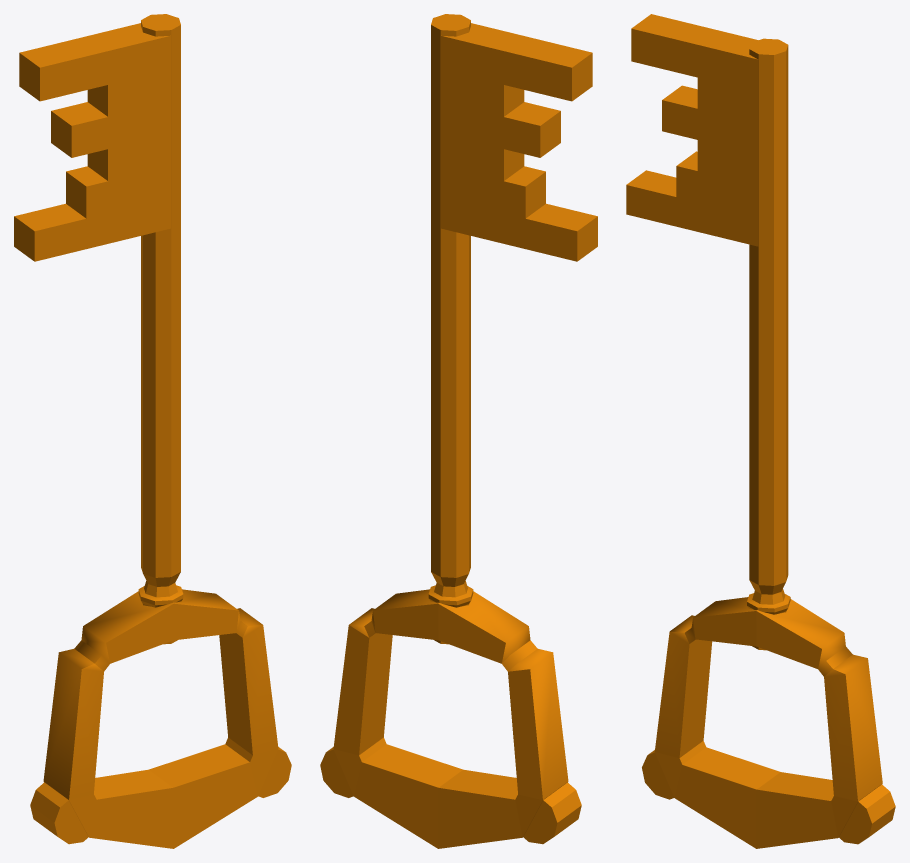
File: anahtar.fbx
The picture shows the model from 3 angles, left to right: view 1: azimuth 30°, elevation 25°; view 2: azimuth 150°, elevation 25°; view 3: azimuth 330°, elevation 25°; orthographic projection. The views are drawn at different scales.
Parts seen in each view (by area): view 1: anahtar; view 2: anahtar; view 3: anahtar.
Part boxes in pixels (x1=…): anahtar: x1=14, y1=14, x2=291, y2=848; anahtar: x1=320, y1=14, x2=597, y2=848; anahtar: x1=626, y1=14, x2=895, y2=848.
Size of the model in its own units: 229 by 700 by 39.58.
